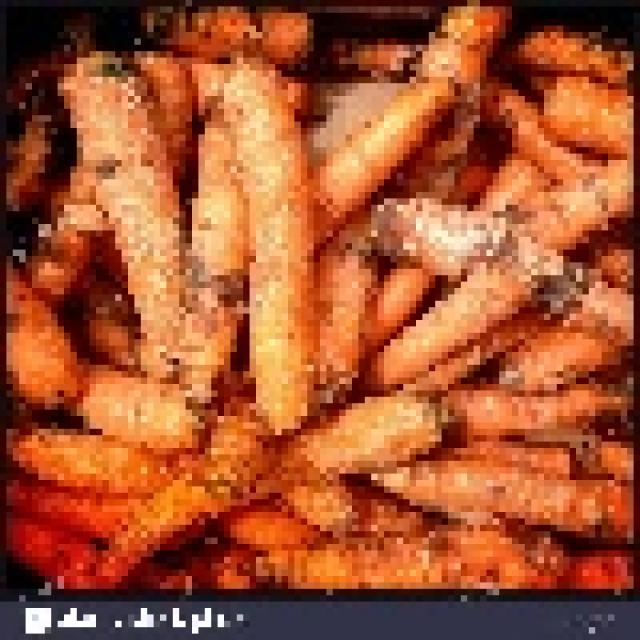Stale_Carrot: (47, 420, 275, 598), (222, 75, 330, 429), (62, 70, 189, 354), (362, 230, 569, 371), (324, 209, 513, 279), (8, 269, 85, 416)
